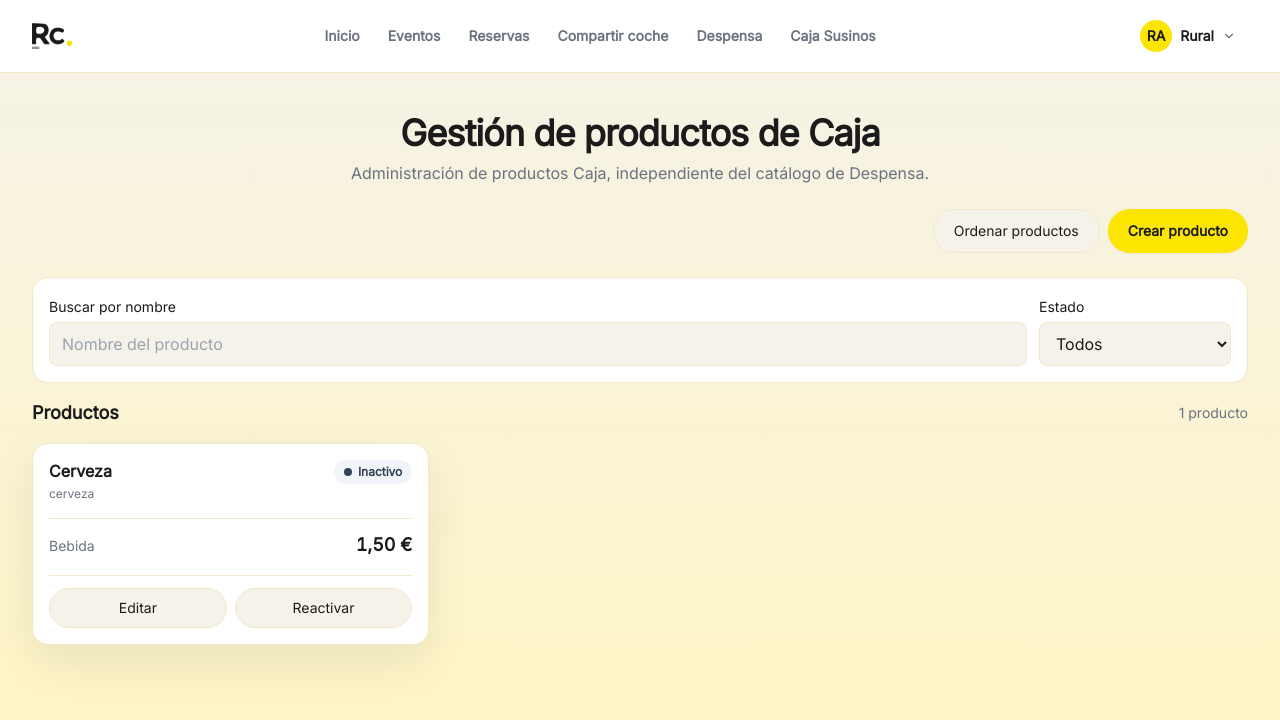
Scenario: Caja product administration UI › allows cancelling the reactivation confirmation without an API request
Click the button "Reactivar" at (324, 608), box [235,588,412,628]
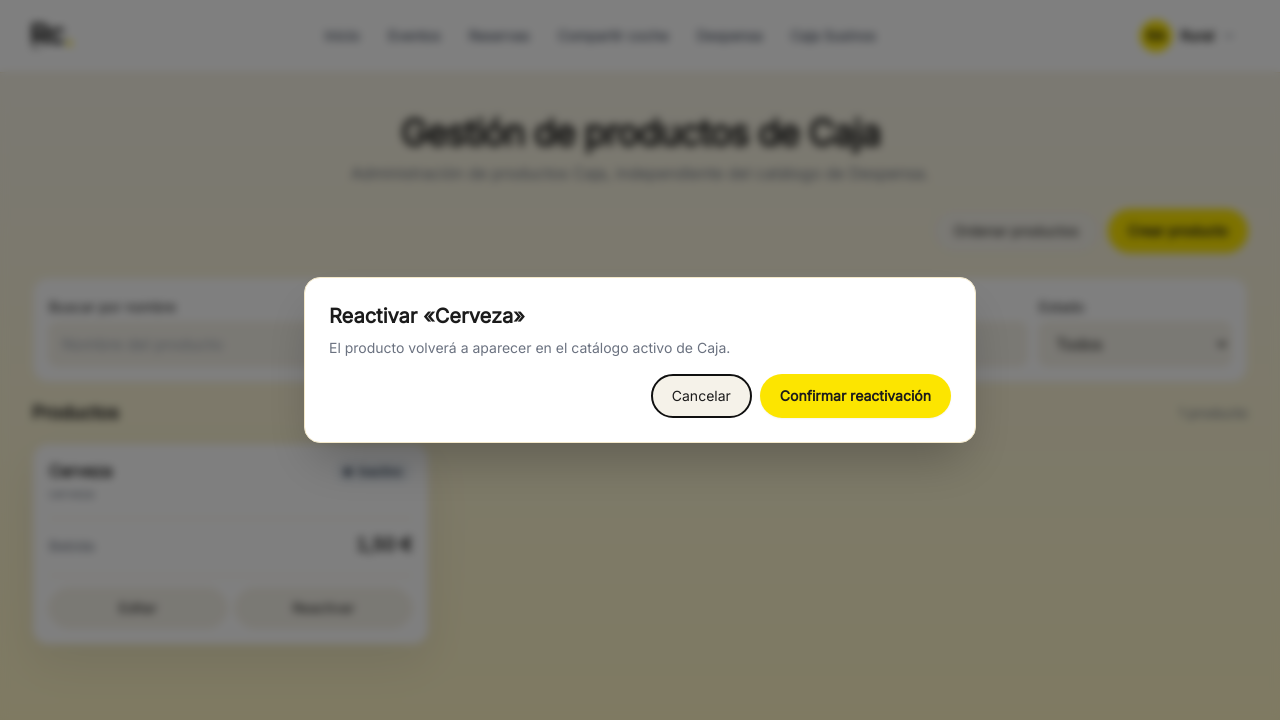
Click the button "Cancelar" at (701, 396), box [651,374,752,418]
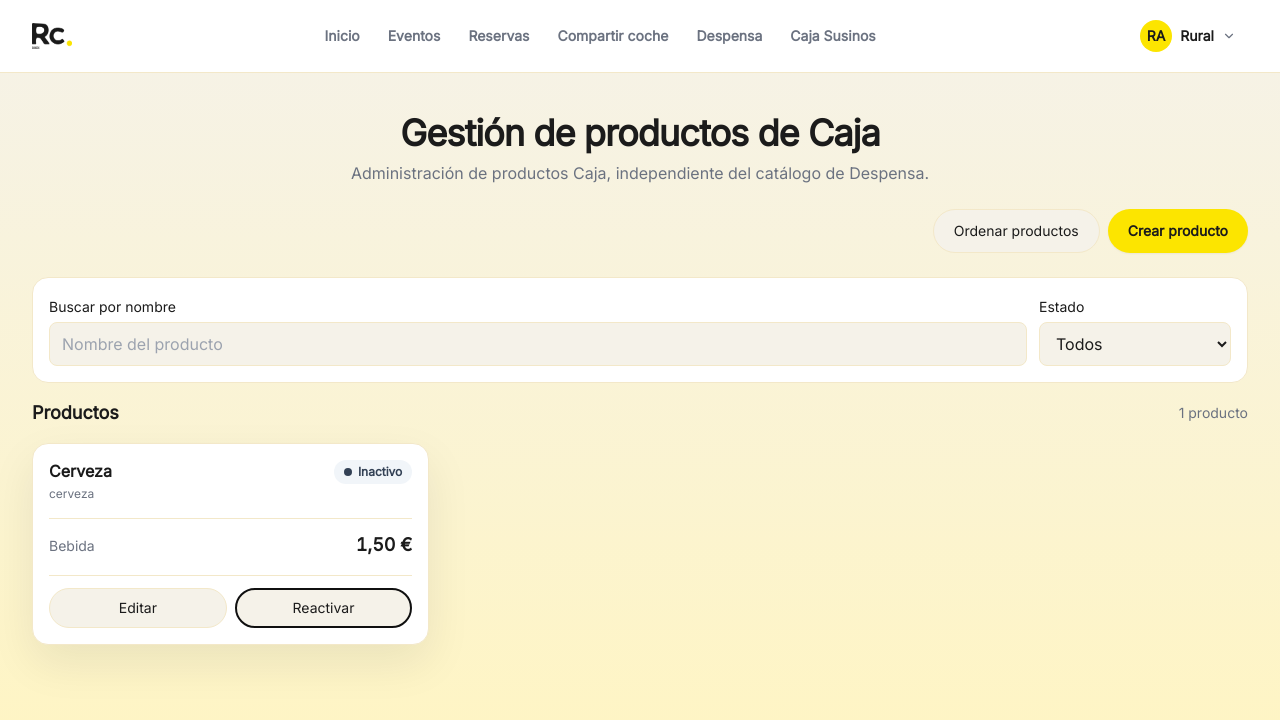
Now the heading "Reactivar «Cerveza»" is gone
